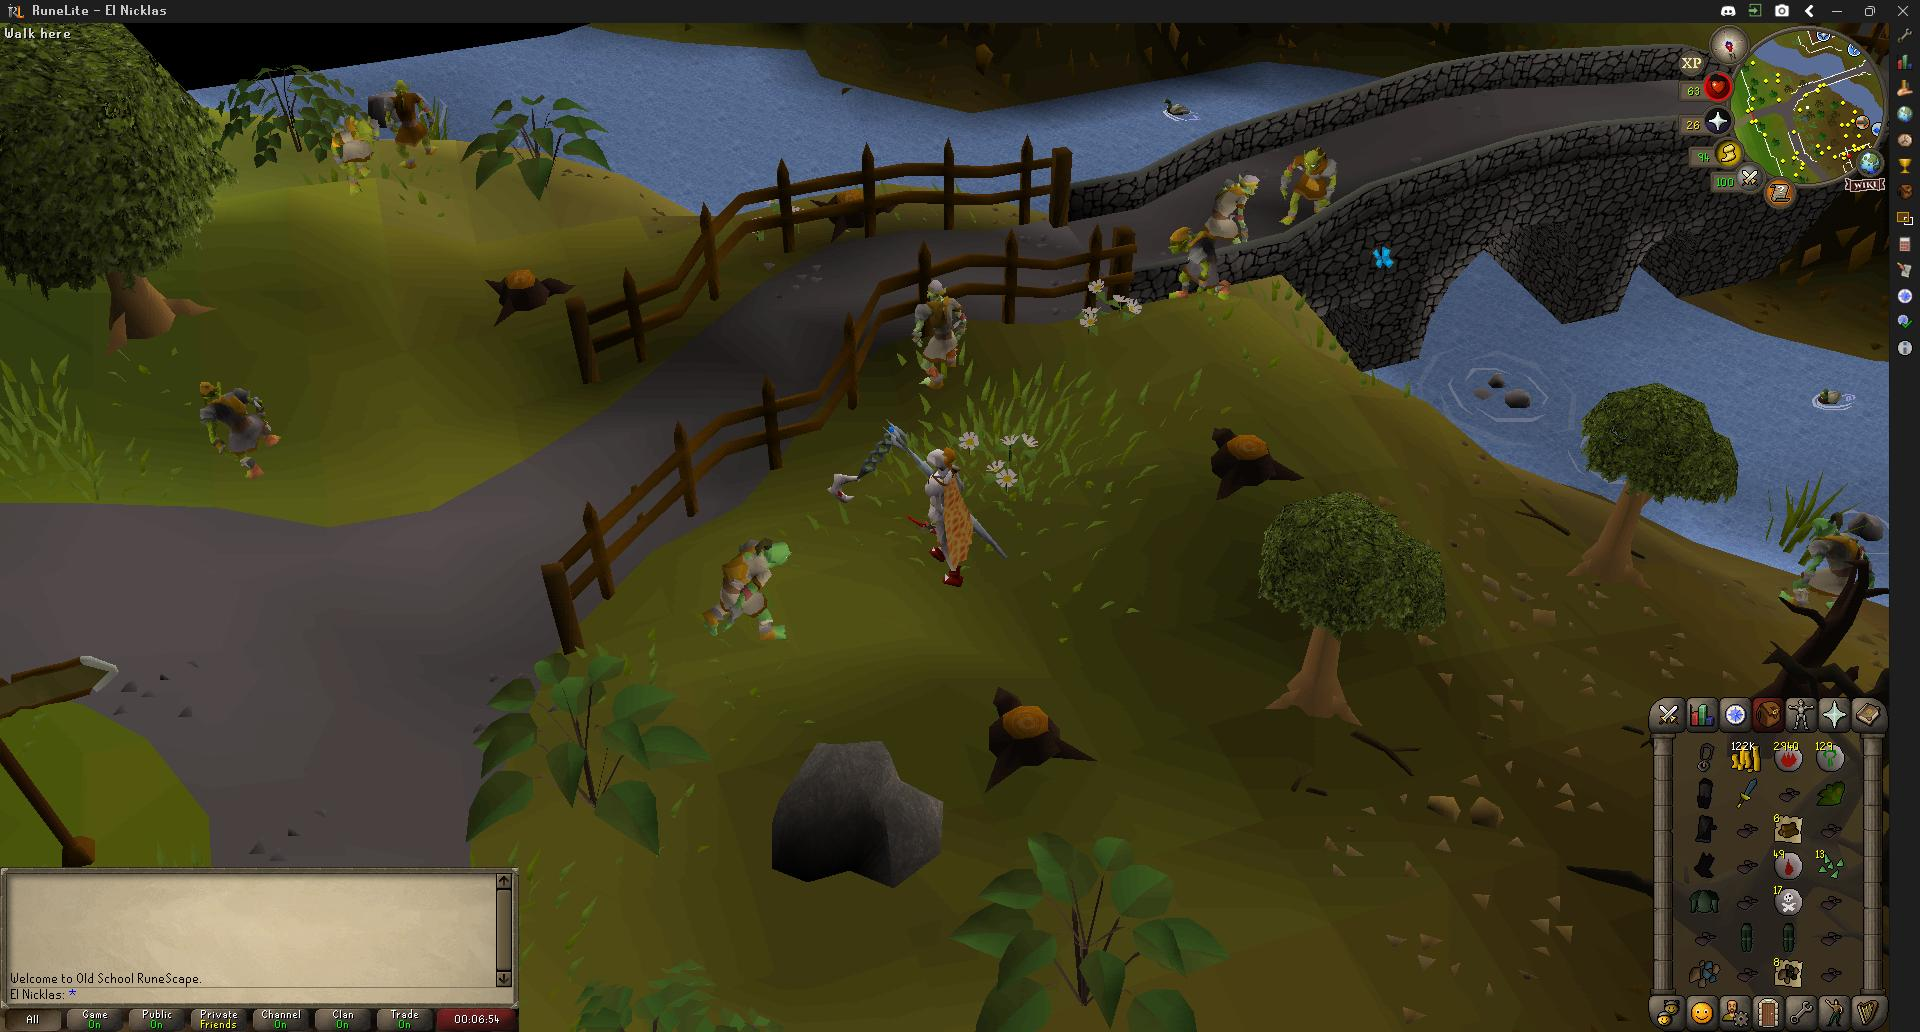Player: (906, 446, 975, 583)
goblin: (1168, 172, 1258, 297), (1781, 514, 1883, 616), (702, 536, 786, 630), (199, 380, 281, 476), (914, 276, 969, 390), (1295, 144, 1343, 220), (332, 115, 376, 176)
